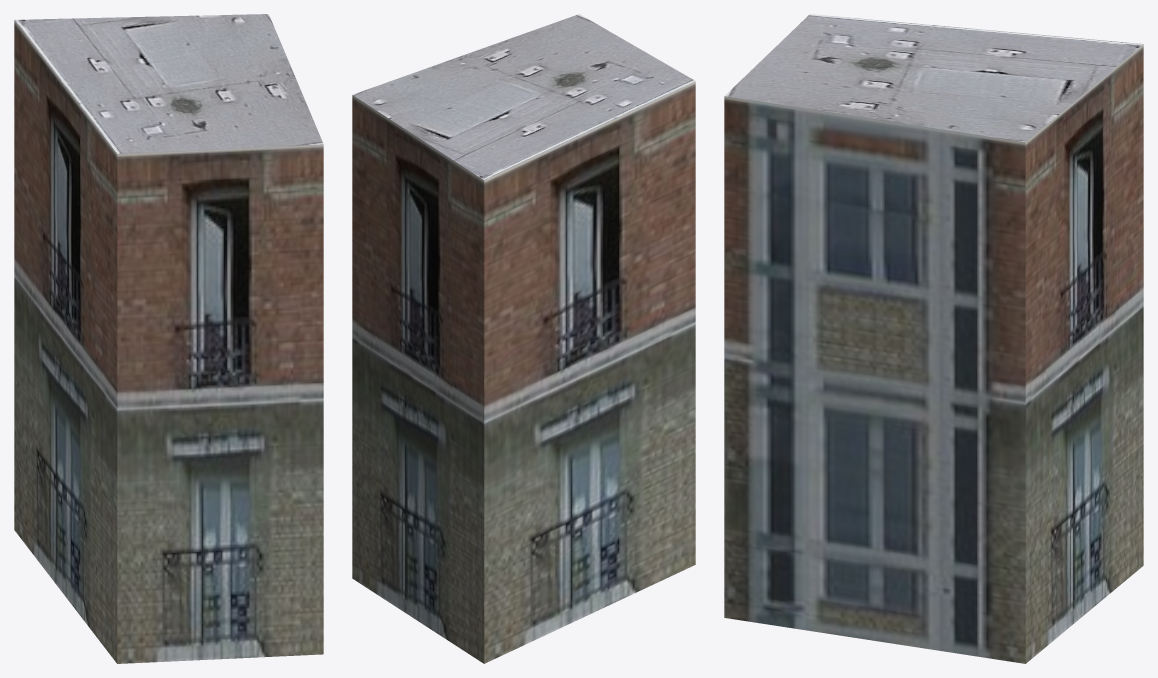
The model's file is RelTex__21.fbx.
The picture shows the model from 3 angles, left to right: view 1: azimuth 30°, elevation 25°; view 2: azimuth 150°, elevation 25°; view 3: azimuth 270°, elevation 25°; orthographic projection. The views are drawn at different scales.
Visible parts, largest first — view 1: CityEngineMaterial_9_m, CityEngineMaterial_30_m; view 2: CityEngineMaterial_9_m, CityEngineMaterial_30_m; view 3: CityEngineMaterial_9_m, CityEngineMaterial_30_m.
Part boxes in pixels (bbox=[...]): CityEngineMaterial_9_m: bbox=[14, 20, 323, 663]; CityEngineMaterial_30_m: bbox=[14, 14, 323, 153]; CityEngineMaterial_9_m: bbox=[352, 81, 695, 663]; CityEngineMaterial_30_m: bbox=[352, 14, 695, 180]; CityEngineMaterial_9_m: bbox=[724, 44, 1143, 663]; CityEngineMaterial_30_m: bbox=[724, 14, 1142, 142].
Size of the model in its own units: 3.16 by 6 by 4.37.
2 materials, 2 textured.
